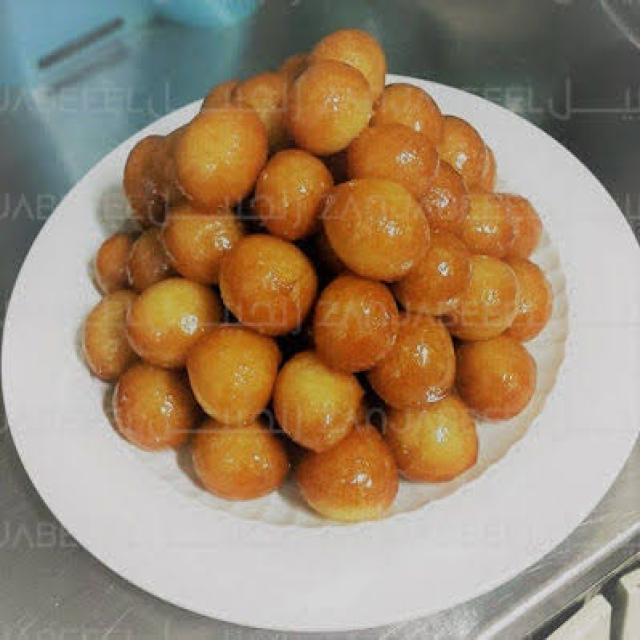Luqaimat: (154, 75, 538, 498)
